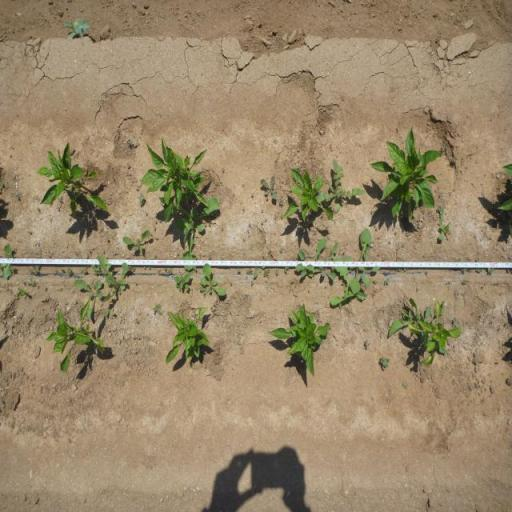plant: (139, 131, 212, 226), (369, 125, 439, 222), (34, 139, 111, 219), (43, 296, 106, 384), (266, 302, 332, 380), (407, 294, 463, 367), (164, 301, 216, 371), (282, 166, 336, 225)
weed: (173, 196, 224, 272), (316, 156, 367, 215), (343, 227, 381, 295), (386, 293, 432, 338), (330, 257, 369, 307), (72, 275, 104, 323), (295, 237, 328, 278), (97, 254, 119, 303), (199, 262, 227, 297), (120, 229, 151, 255), (61, 14, 90, 40), (307, 256, 337, 281), (437, 204, 452, 242), (0, 244, 14, 280), (259, 174, 278, 200), (115, 262, 128, 295), (173, 272, 192, 294), (380, 356, 390, 372), (252, 266, 264, 279), (103, 305, 115, 317), (90, 264, 102, 276), (152, 303, 162, 317), (198, 287, 212, 297), (16, 287, 28, 298), (28, 264, 41, 274), (138, 192, 146, 207), (29, 279, 38, 288), (81, 264, 89, 274), (370, 288, 378, 298), (129, 264, 136, 274), (66, 265, 72, 276), (364, 339, 370, 350), (460, 266, 468, 274), (264, 269, 270, 279), (402, 380, 408, 390), (486, 268, 496, 274), (126, 139, 134, 146), (383, 278, 390, 286), (440, 145, 447, 153), (395, 268, 408, 272), (21, 280, 29, 286), (284, 266, 290, 274), (452, 156, 458, 164), (192, 264, 198, 272), (246, 268, 253, 274), (462, 280, 468, 286), (476, 267, 482, 273), (278, 200, 284, 206), (415, 286, 419, 294), (167, 268, 172, 274), (250, 280, 254, 287), (208, 254, 212, 260), (446, 280, 452, 284), (14, 194, 18, 200), (279, 248, 283, 254), (59, 266, 63, 272), (275, 268, 278, 275), (237, 268, 241, 272), (374, 280, 376, 284)
